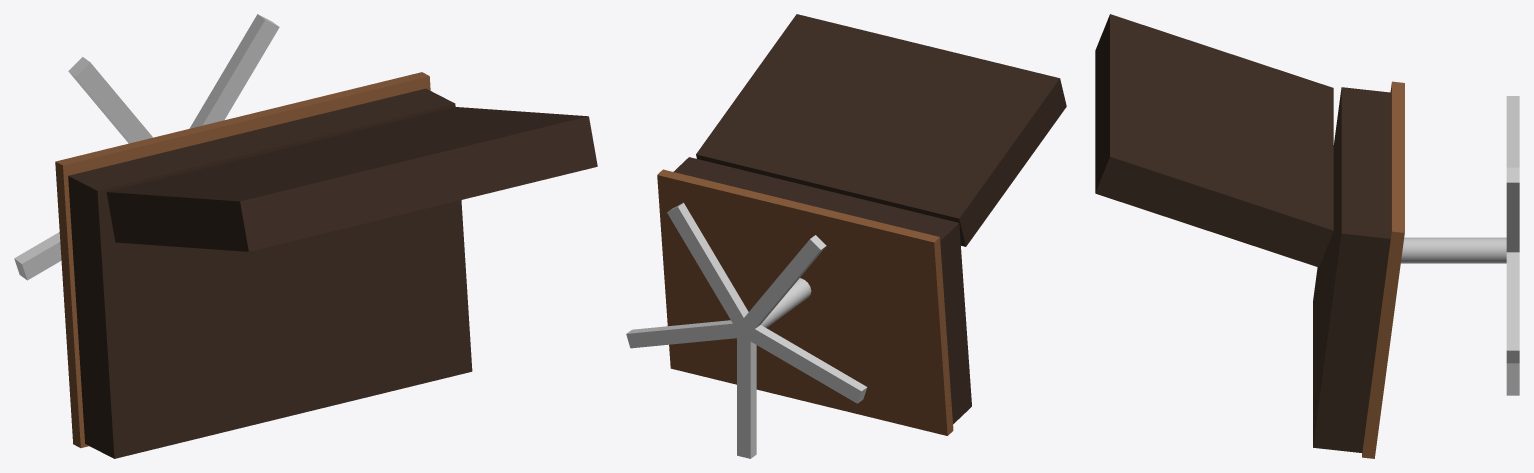
The model's file is chair.glb.
3 renders of one model, left to right at view 1: azimuth 30°, elevation 25°; view 2: azimuth 150°, elevation 25°; view 3: azimuth 270°, elevation 25°, orthographic. The views are drawn at different scales.
Parts seen in each view (by area): view 1: Lounge chair (cm); view 2: Lounge chair (cm); view 3: Lounge chair (cm).
Boxes of the visible parts, bbox=[...] form: Lounge chair (cm): bbox=[14, 14, 597, 458]; Lounge chair (cm): bbox=[626, 14, 1066, 458]; Lounge chair (cm): bbox=[1095, 14, 1519, 458].
Bounding box in the file's own units: 82 × 78.13 × 98.05.
